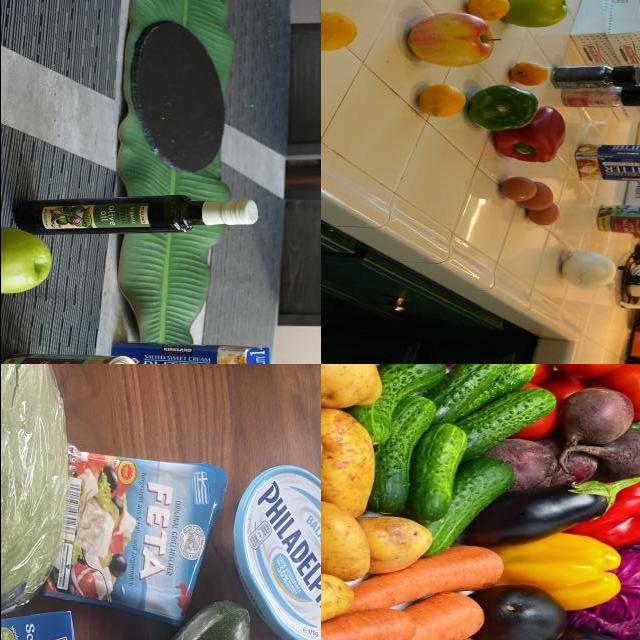beet: (552, 387, 637, 446), (498, 438, 560, 487), (595, 430, 640, 477)
bell_pepper: (500, 538, 627, 605), (492, 107, 567, 165), (580, 482, 640, 549), (474, 85, 539, 131), (554, 66, 640, 91)
cabbage: (1, 365, 67, 633), (576, 550, 640, 640)
carrot: (358, 549, 503, 609), (395, 595, 479, 640), (321, 614, 420, 640)
cucumber: (426, 459, 506, 552), (412, 424, 474, 519), (375, 394, 425, 510), (366, 365, 439, 440), (462, 386, 548, 446), (437, 365, 510, 420)
egg: (513, 184, 555, 214), (501, 178, 535, 202), (527, 206, 560, 227)
eggplant: (478, 590, 568, 640)
onion: (477, 482, 623, 547), (559, 253, 616, 293)
potato: (321, 411, 375, 509), (354, 522, 434, 573), (321, 365, 386, 409), (321, 574, 350, 631)
tomato: (602, 368, 640, 423), (551, 365, 636, 376)
